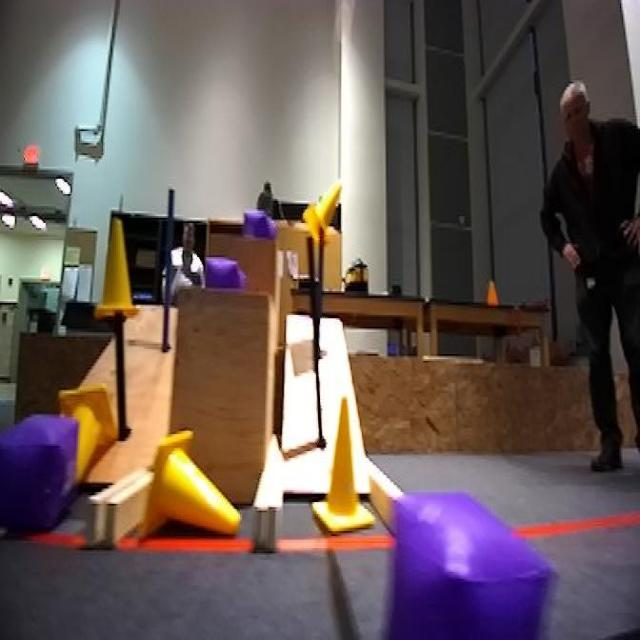frc_cone: (145, 429, 240, 545), (306, 395, 376, 534), (52, 384, 112, 488), (92, 211, 142, 318), (306, 174, 352, 250)
frc_cube: (380, 505, 538, 630), (0, 412, 75, 529), (203, 252, 242, 288), (241, 204, 275, 240)
